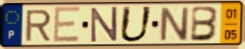B: (189, 5, 221, 43)
E: (53, 6, 83, 45)
N: (159, 6, 190, 43), (90, 6, 119, 44)
R: (24, 8, 53, 43)
U: (118, 5, 155, 44)
